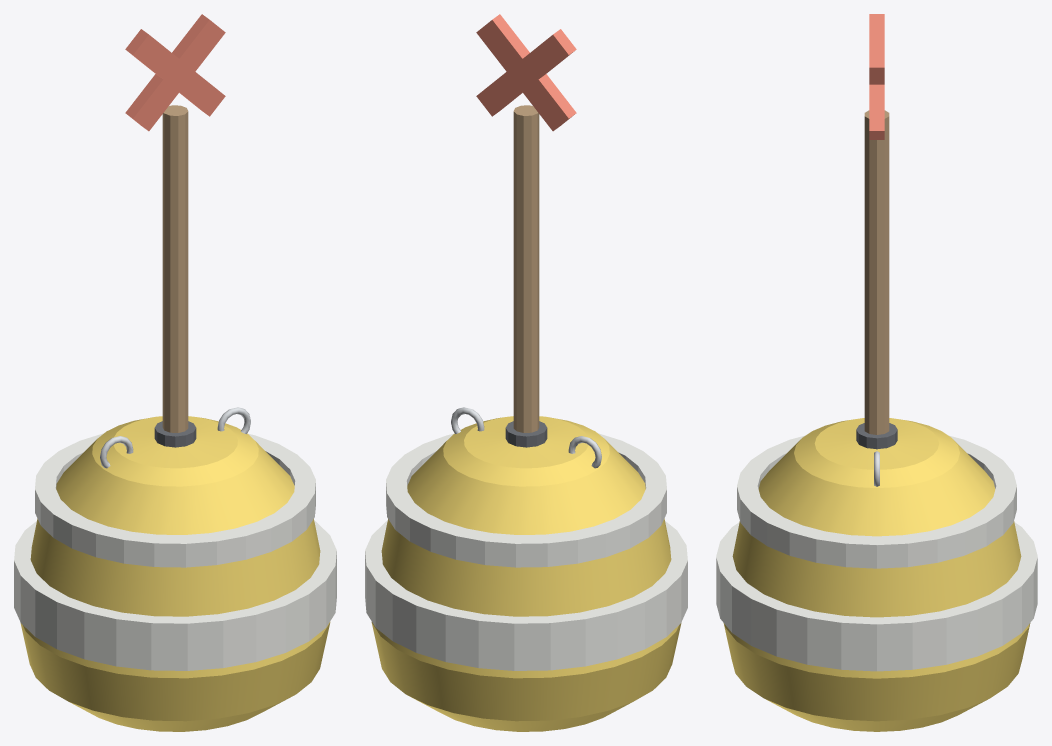
The model's file is beach-surf-and-paddle-kit-swim-zone-buoy-orange-36e2fd5e.glb.
3 renders of one model, left to right at view 1: azimuth 30°, elevation 25°; view 2: azimuth 150°, elevation 25°; view 3: azimuth 270°, elevation 25°, orthographic.
Visible parts, largest first — view 1: swim-zone-buoy-orange-sun, swim-zone-buoy-orange-foam, swim-zone-buoy-orange-timber, swim-zone-buoy-orange-coral, swim-zone-buoy-orange-steel, swim-zone-buoy-orange-charcoal; view 2: swim-zone-buoy-orange-sun, swim-zone-buoy-orange-foam, swim-zone-buoy-orange-timber, swim-zone-buoy-orange-coral, swim-zone-buoy-orange-steel, swim-zone-buoy-orange-charcoal; view 3: swim-zone-buoy-orange-sun, swim-zone-buoy-orange-foam, swim-zone-buoy-orange-timber, swim-zone-buoy-orange-coral, swim-zone-buoy-orange-charcoal.
Boxes of the visible parts, x1,y1,x2,y2 form: swim-zone-buoy-orange-sun: [20, 416, 330, 731]; swim-zone-buoy-orange-foam: [14, 433, 336, 670]; swim-zone-buoy-orange-timber: [162, 105, 188, 432]; swim-zone-buoy-orange-coral: [125, 14, 225, 131]; swim-zone-buoy-orange-steel: [100, 407, 250, 468]; swim-zone-buoy-orange-charcoal: [154, 421, 196, 447]; swim-zone-buoy-orange-sun: [371, 416, 681, 731]; swim-zone-buoy-orange-foam: [365, 433, 687, 670]; swim-zone-buoy-orange-timber: [513, 105, 539, 432]; swim-zone-buoy-orange-coral: [476, 14, 576, 131]; swim-zone-buoy-orange-steel: [451, 407, 601, 468]; swim-zone-buoy-orange-charcoal: [505, 421, 547, 447]; swim-zone-buoy-orange-sun: [723, 418, 1030, 731]; swim-zone-buoy-orange-foam: [716, 435, 1037, 671]; swim-zone-buoy-orange-timber: [864, 110, 889, 434]; swim-zone-buoy-orange-coral: [869, 14, 884, 139]; swim-zone-buoy-orange-charcoal: [856, 423, 897, 449].
Size of the model in its own units: 0.62 by 1.44 by 0.62.
